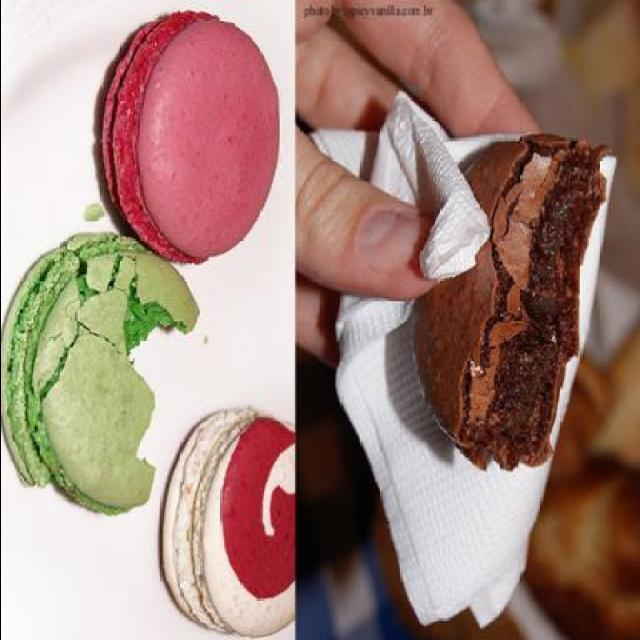Macaron: (0, 11, 296, 638), (404, 130, 616, 474)
